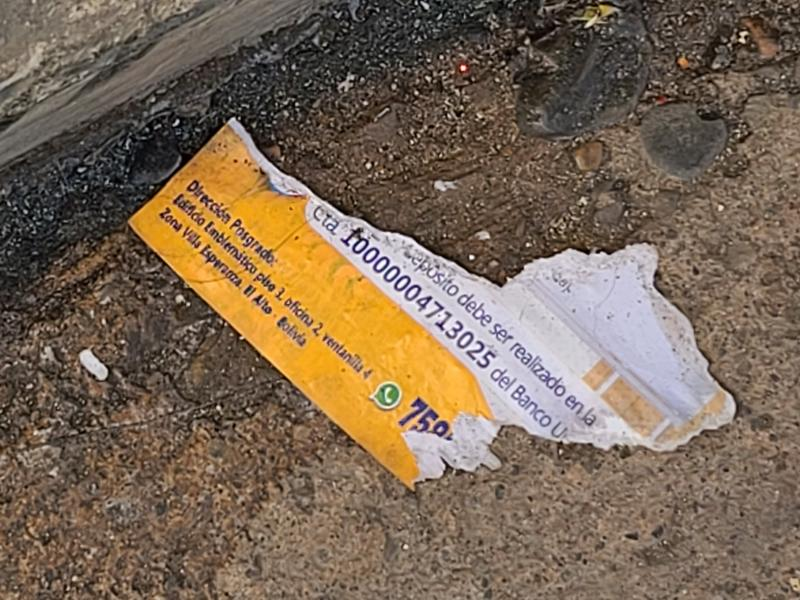papel: (128, 120, 738, 483)
